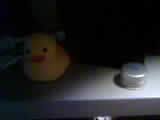duck: (27, 37, 68, 74)
